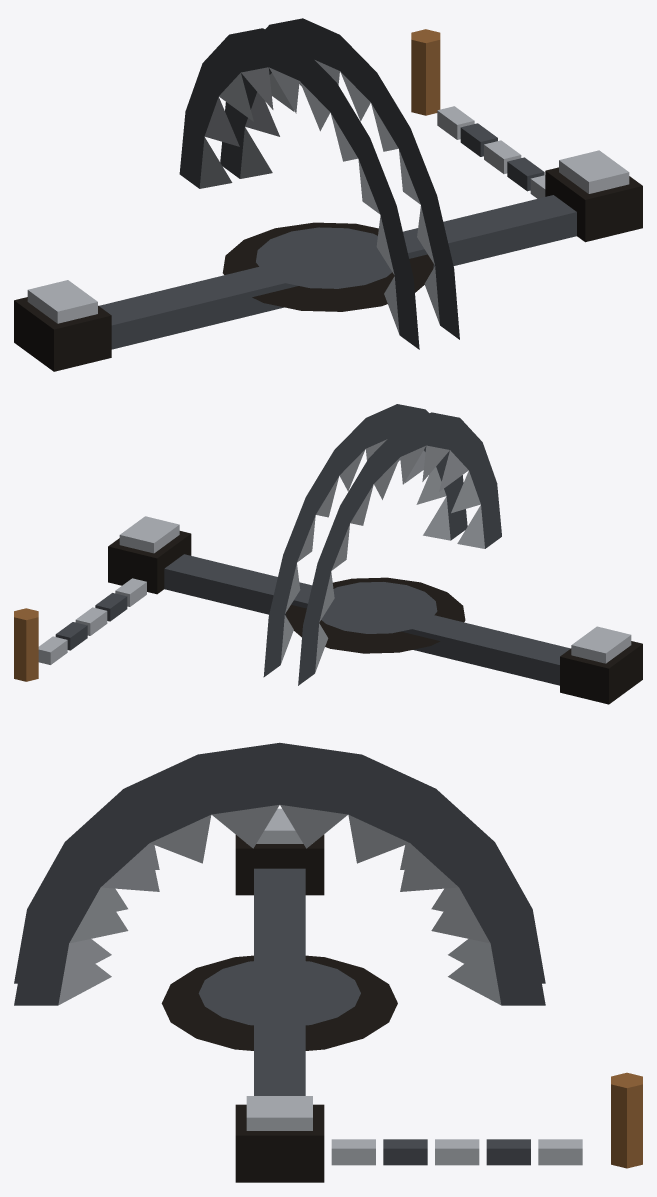
The model's file is snare_shut.glb.
3 renders of one model, top to bottom at view 1: azimuth 30°, elevation 25°; view 2: azimuth 150°, elevation 25°; view 3: azimuth 270°, elevation 25°, orthographic. The views are drawn at different scales.
Parts seen in each view (by area): view 1: snare_shut; view 2: snare_shut; view 3: snare_shut.
Part boxes in pixels (box(x1,y1,x2,y2)): snare_shut: box(14, 18, 642, 371); snare_shut: box(14, 404, 642, 704); snare_shut: box(14, 742, 642, 1182).
Bounding box in the file's own units: 1.02 × 0.41 × 0.8517.
Materials: 1 (1 with a texture image).
